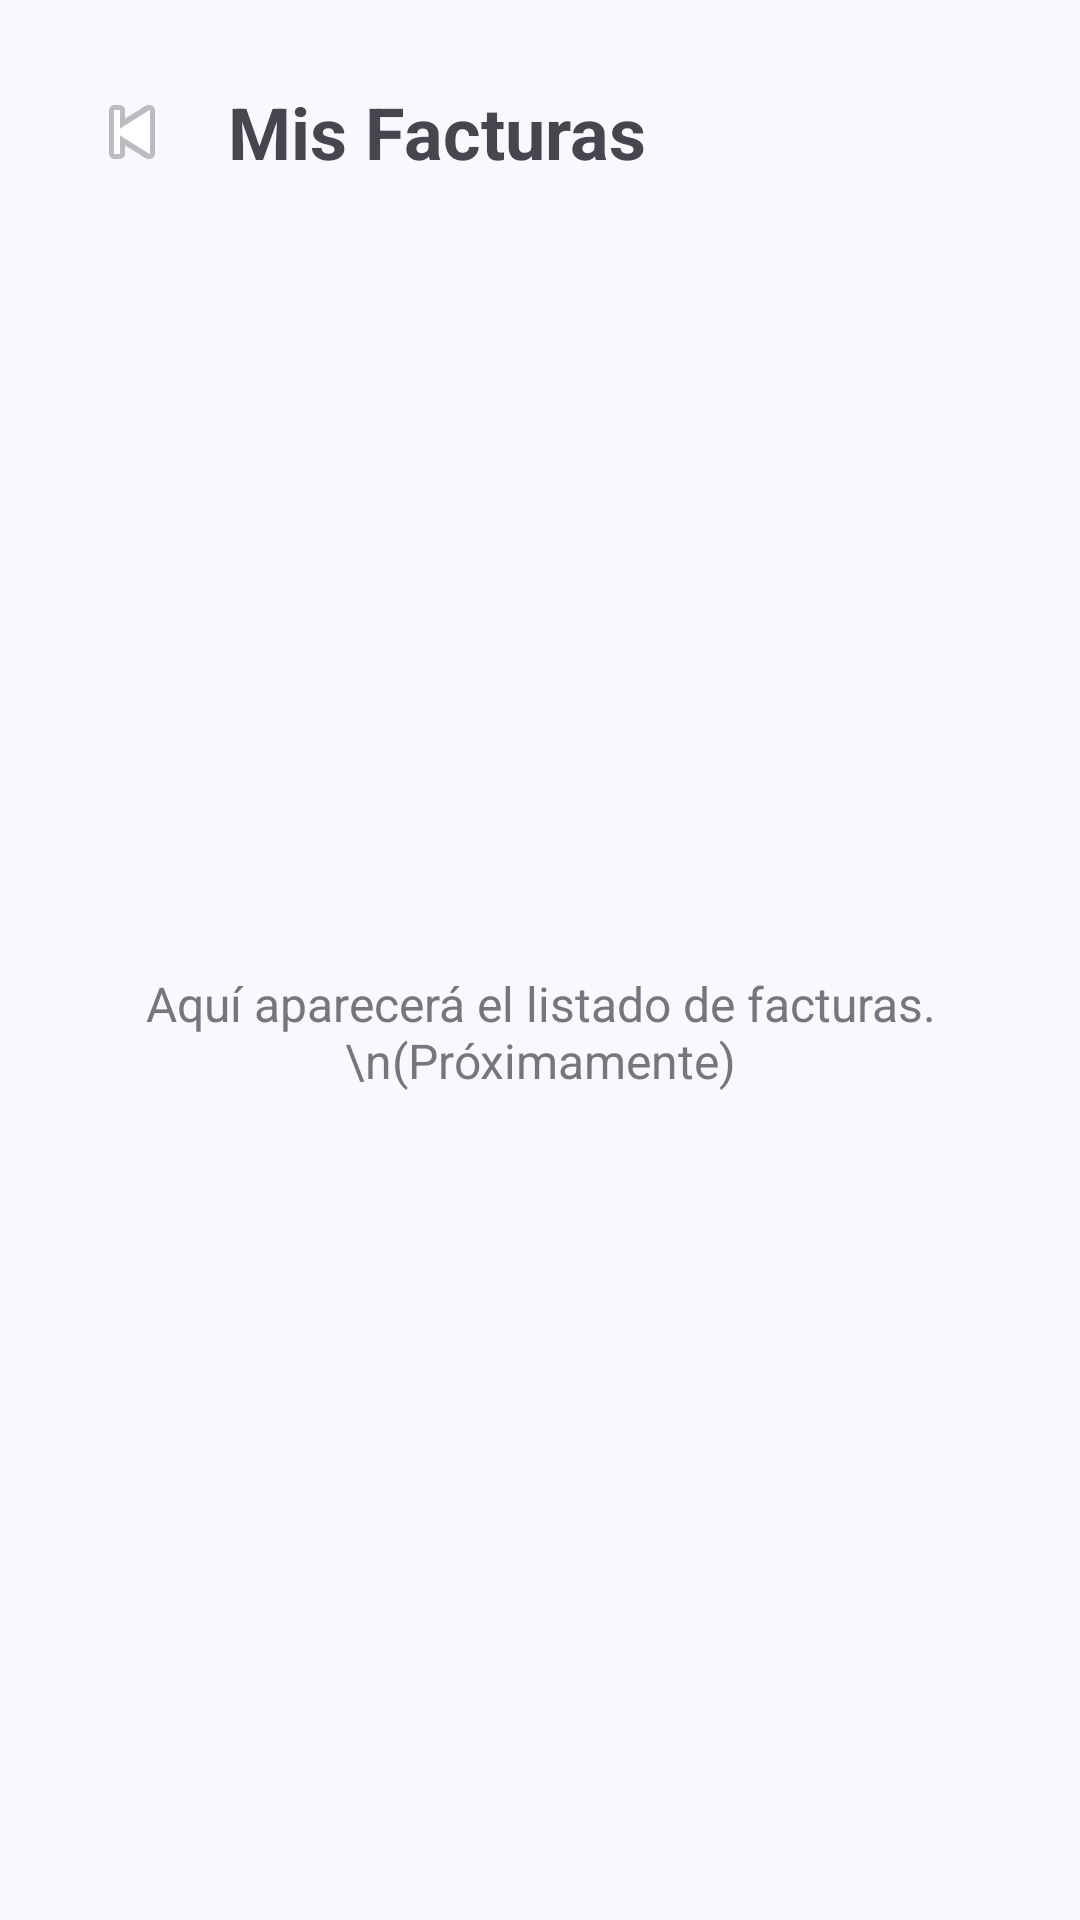

Point at icon controls on the screen. Image size 1080px×1920px, points as (x=x, y=y).
Regresar: (x=132, y=132)
